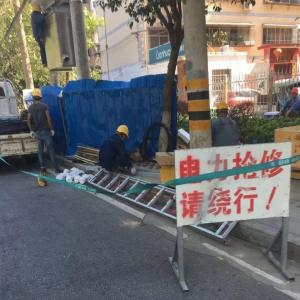red: (292, 87, 300, 100)
yellow: (215, 102, 230, 120), (115, 125, 130, 141), (32, 88, 43, 104)
